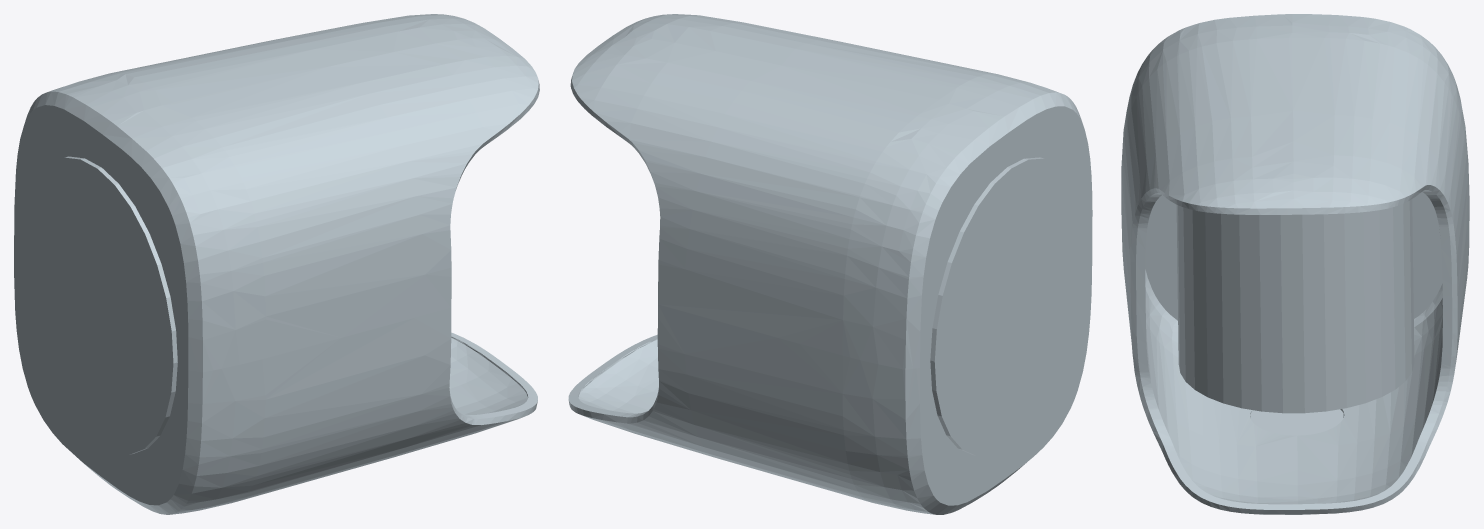
The model's file is left_wrist_roll_link.dae.
3 views of the same model, side by side, from view 1: azimuth 30°, elevation 25°; view 2: azimuth 150°, elevation 25°; view 3: azimuth 270°, elevation 25° (orthographic). The views are drawn at different scales.
Parts seen in each view (by area): view 1: left_wrist_roll_link; view 2: left_wrist_roll_link; view 3: left_wrist_roll_link.
Part boxes in pixels (x1=…): left_wrist_roll_link: x1=14, y1=14, x2=539, y2=514; left_wrist_roll_link: x1=568, y1=14, x2=1092, y2=514; left_wrist_roll_link: x1=1121, y1=14, x2=1469, y2=514.
Size of the model in its own units: 0.0931 by 0.081 by 0.0739.
